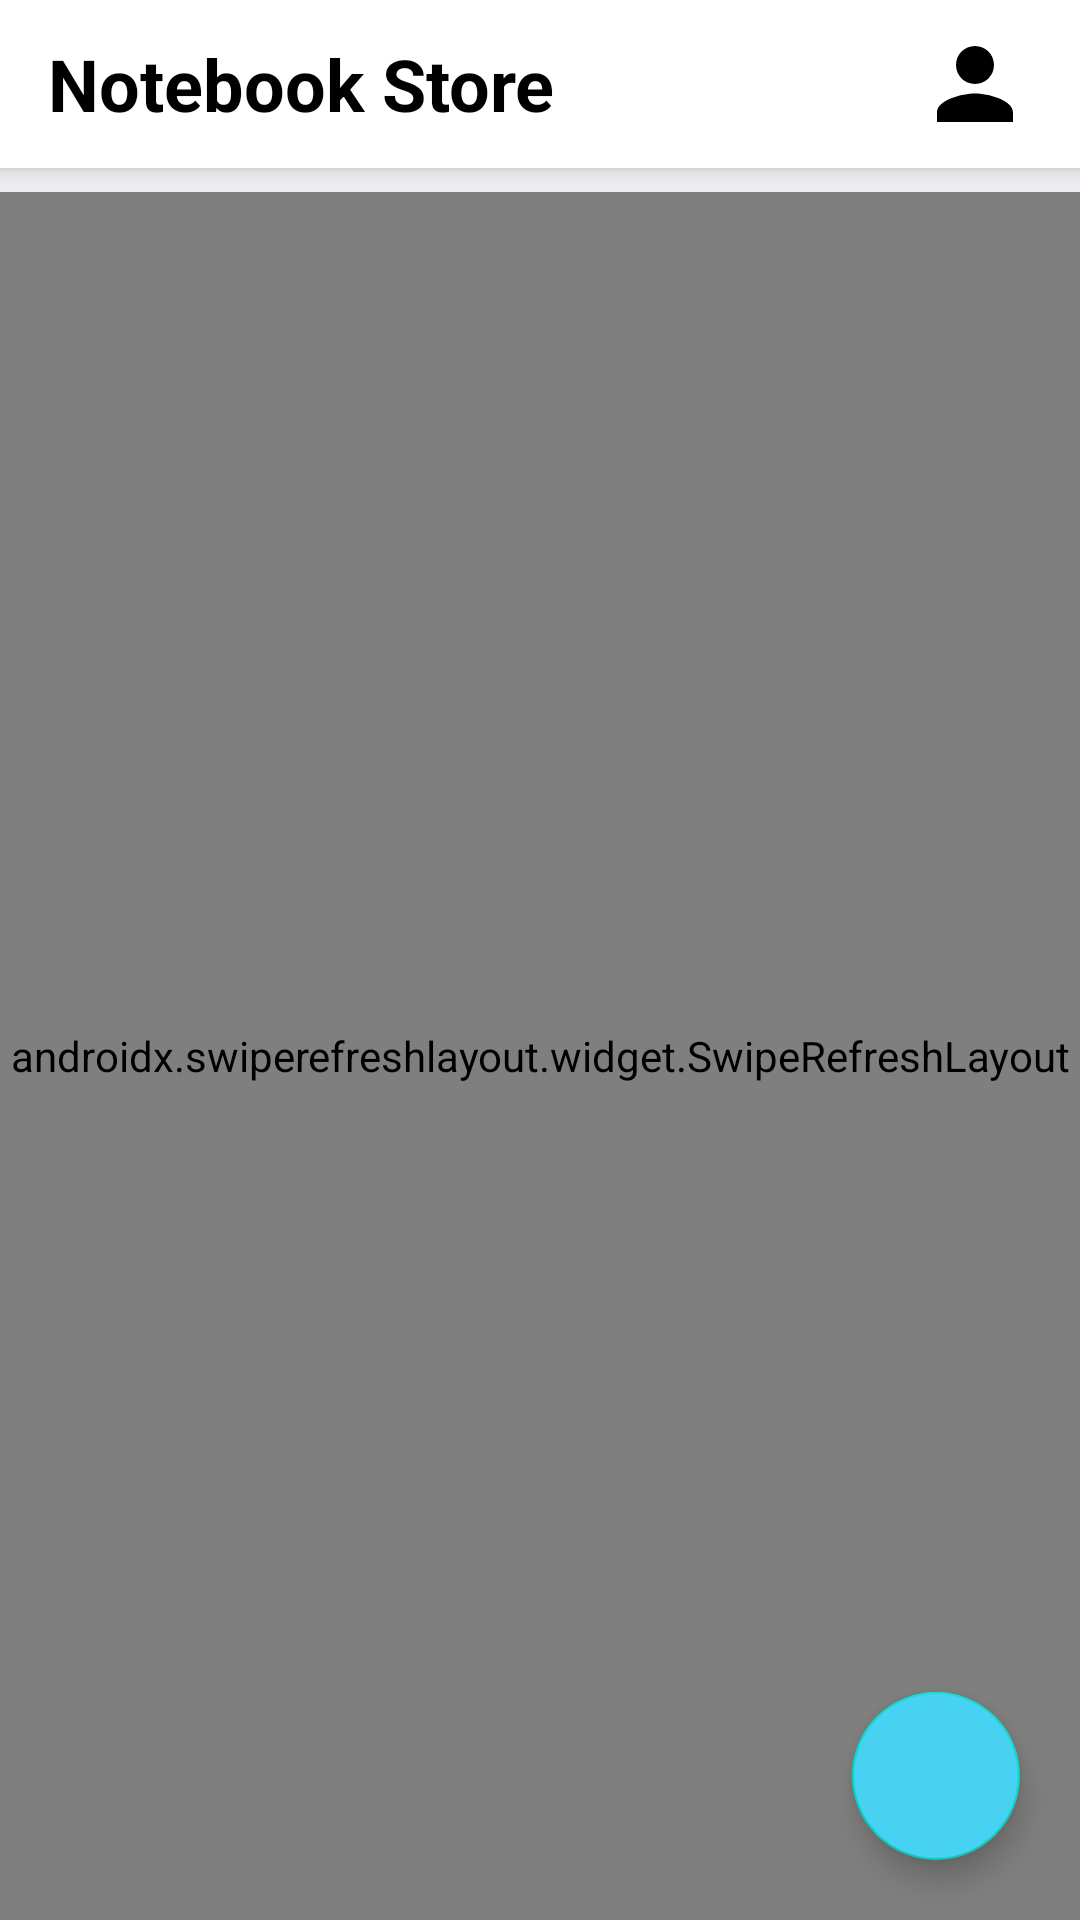

Named icons in this screenshot (1080w x 1920h) and their centers, [x,y]:
person: [975,84]
